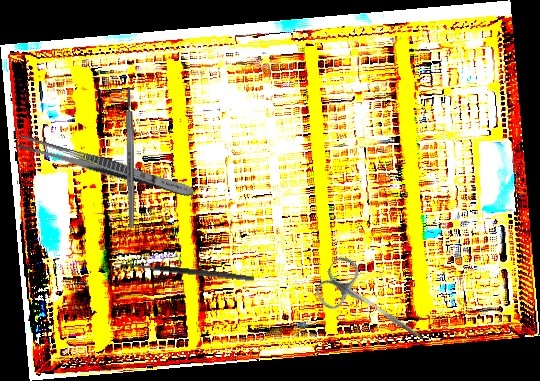Dressing Forceps: (16, 133, 196, 201)
Hook Surgical: (112, 260, 255, 289)
Iris Scissors: (310, 252, 439, 360)
Scalpel Handle: (124, 86, 136, 229)
